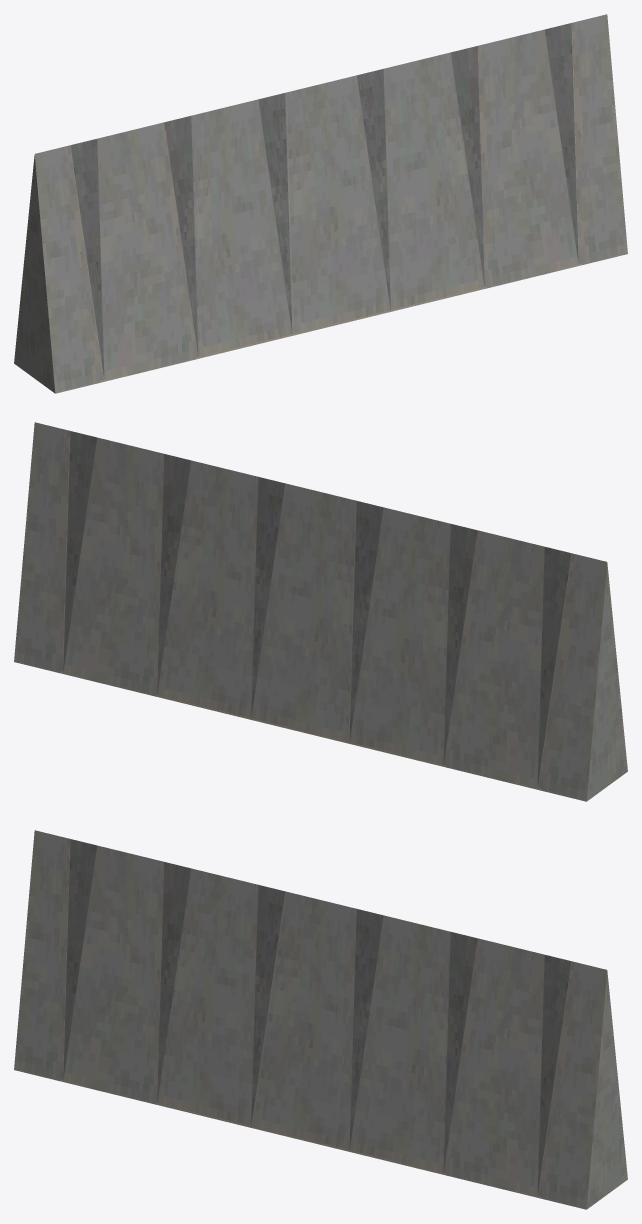
The model's file is mun_all_military_wall_med_impl_16_s01_l2.fbx.
The picture shows the model from 3 angles, top to bottom: view 1: azimuth 30°, elevation 25°; view 2: azimuth 150°, elevation 25°; view 3: azimuth 330°, elevation 25°; orthographic projection.
Parts seen in each view (by area): view 1: mesh_node; view 2: mesh_node; view 3: mesh_node.
Part boxes in pixels (box(x1,y1,x2,y2)): mesh_node: box(14, 14, 627, 393); mesh_node: box(14, 422, 627, 801); mesh_node: box(14, 830, 627, 1209).
Bounding box in the file's own units: 16 × 6 × 2.
